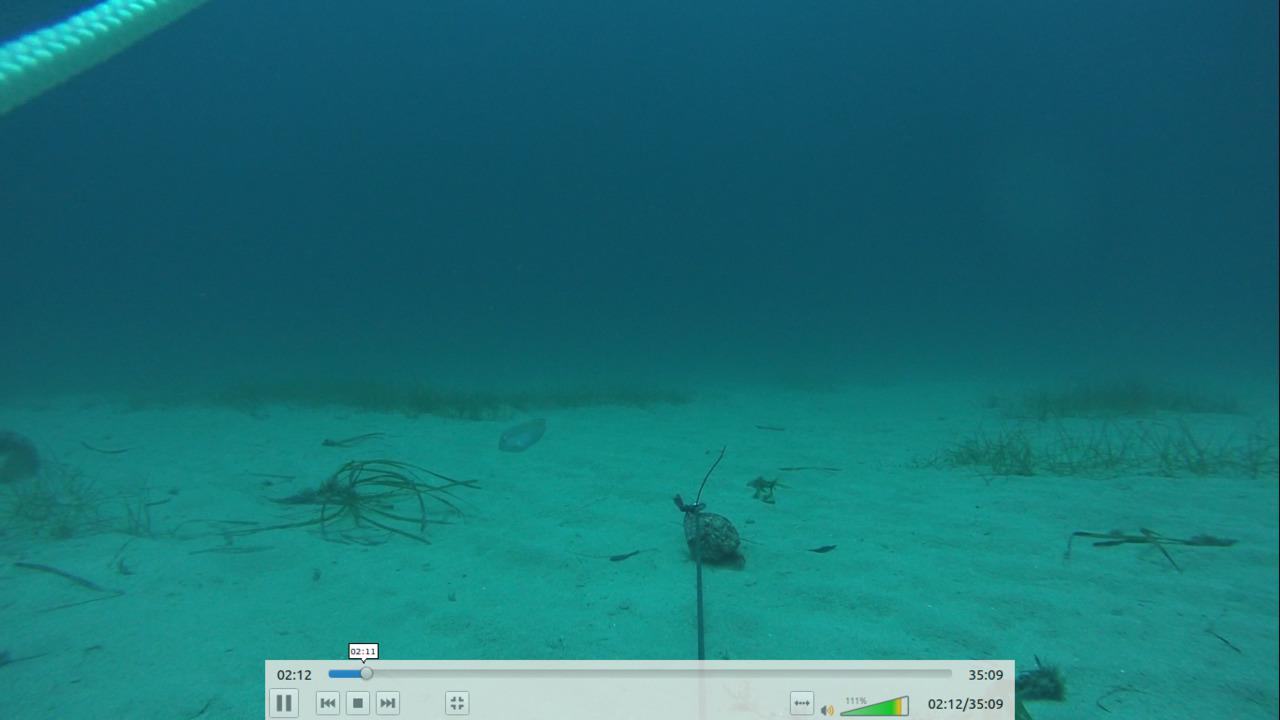raor: (493, 407, 555, 462)
